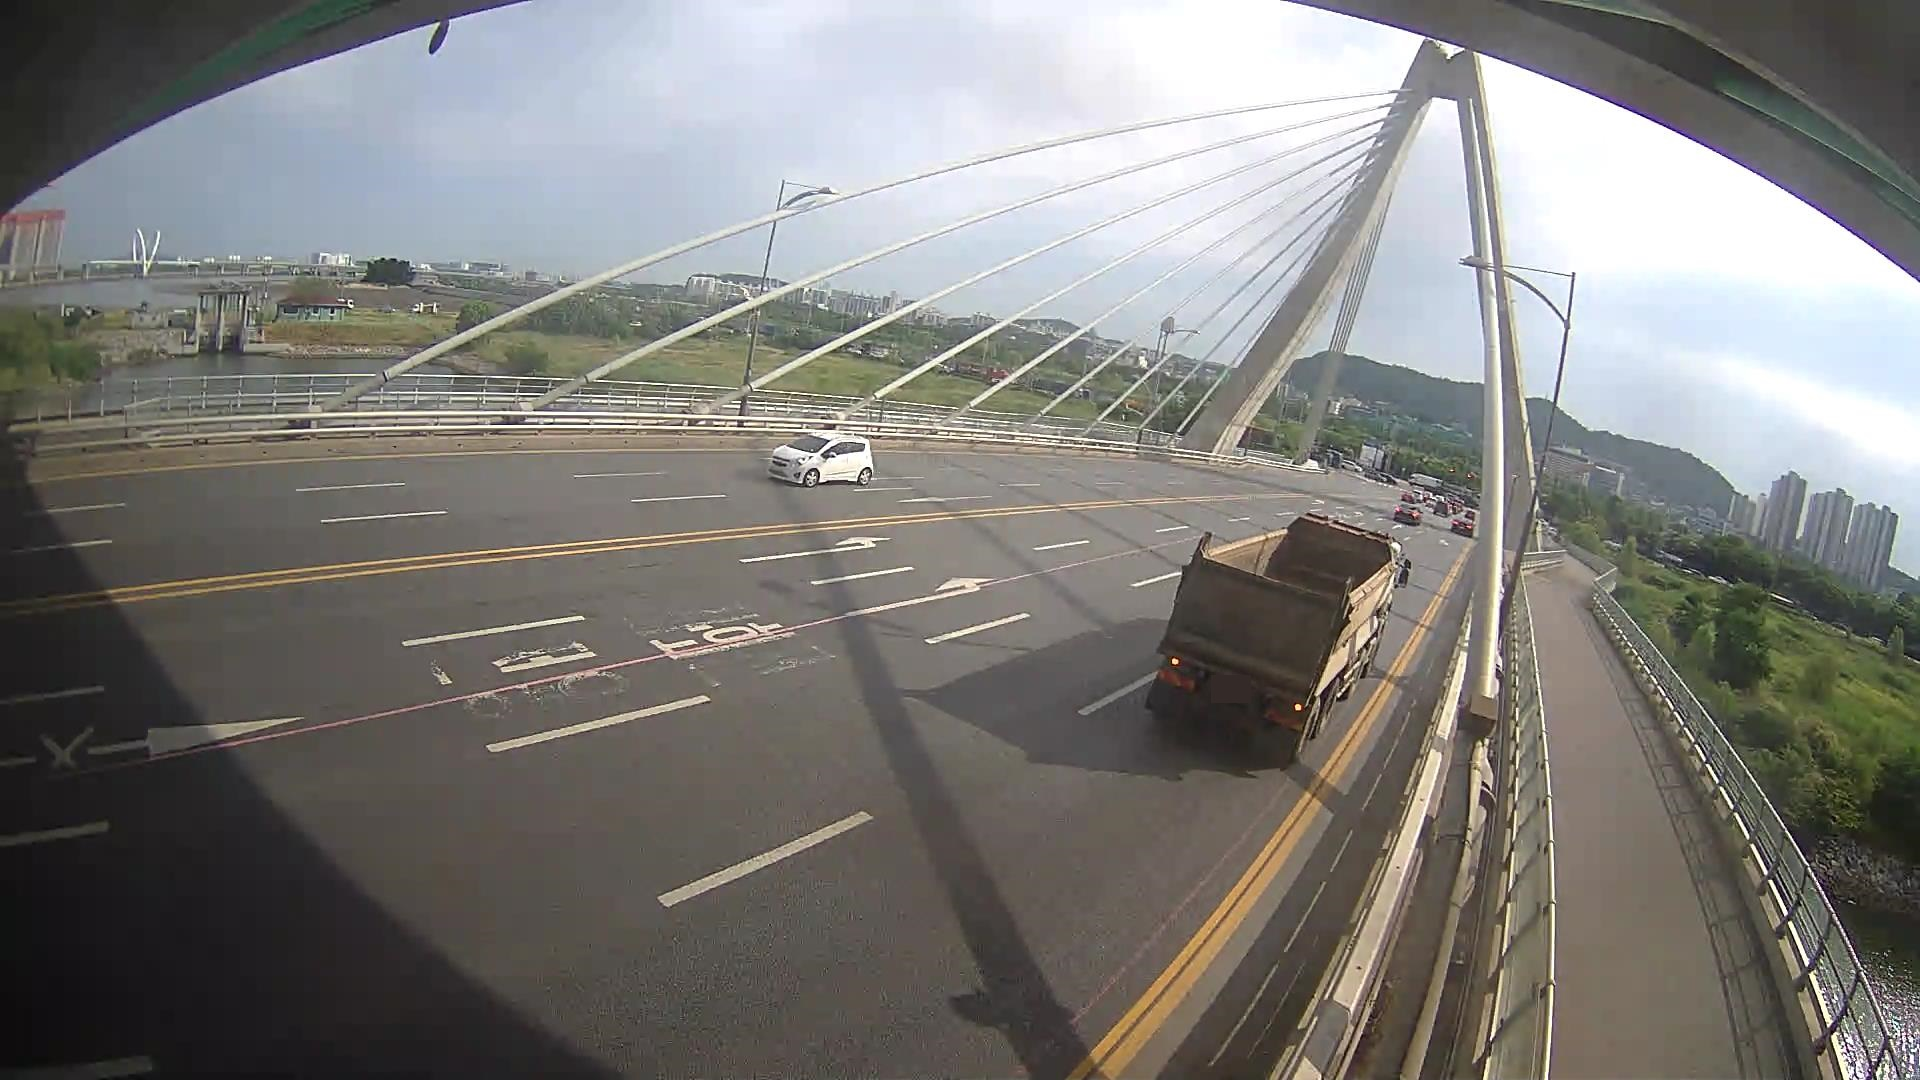정상차량: (1145, 513, 1411, 762)
